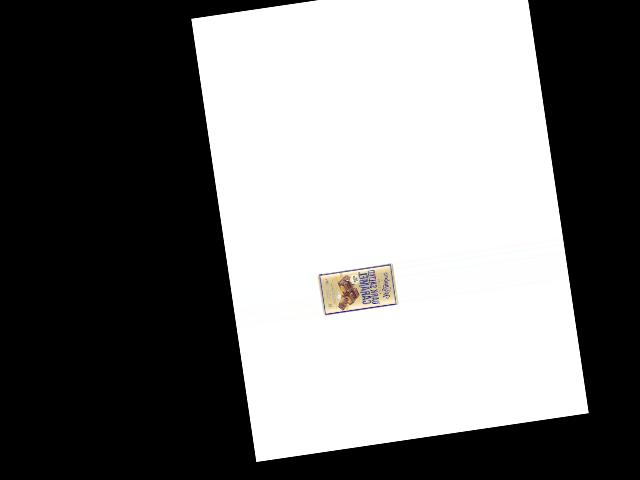chocolate: (315, 260, 398, 317)
